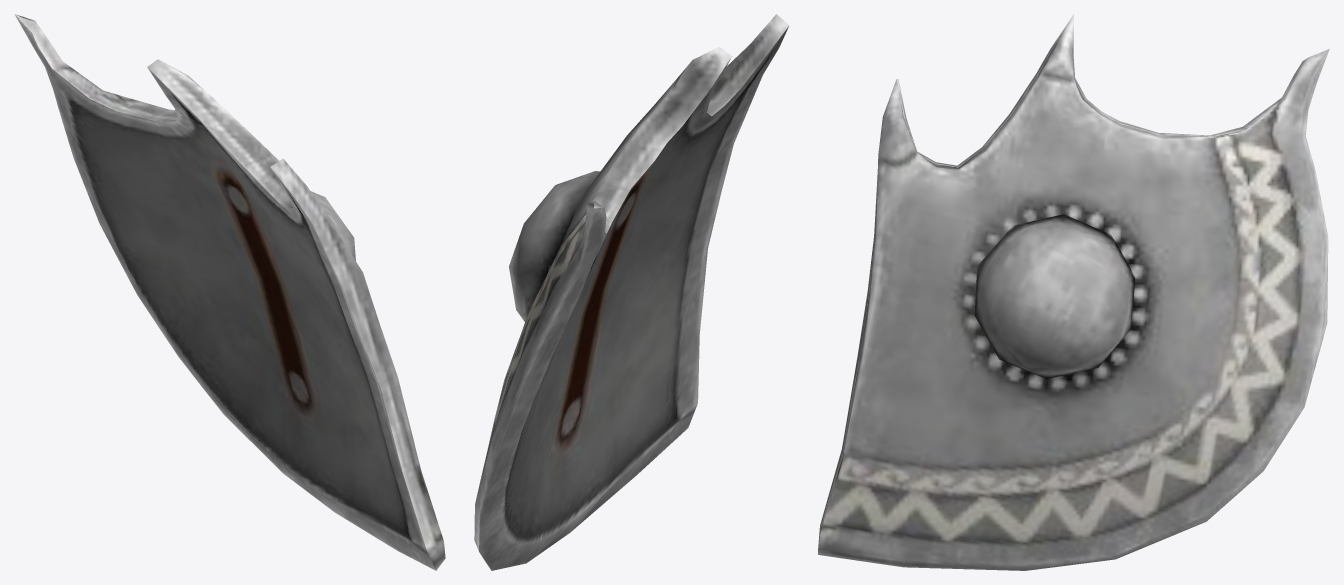
File: shield-ironshields.glb
The picture shows the model from 3 angles, left to right: view 1: azimuth 30°, elevation 25°; view 2: azimuth 150°, elevation 25°; view 3: azimuth 270°, elevation 25°; orthographic projection. The views are drawn at different scales.
Size of the model in its own units: 0.3298 by 0.7583 by 0.7313.
1 material, 1 textured.
